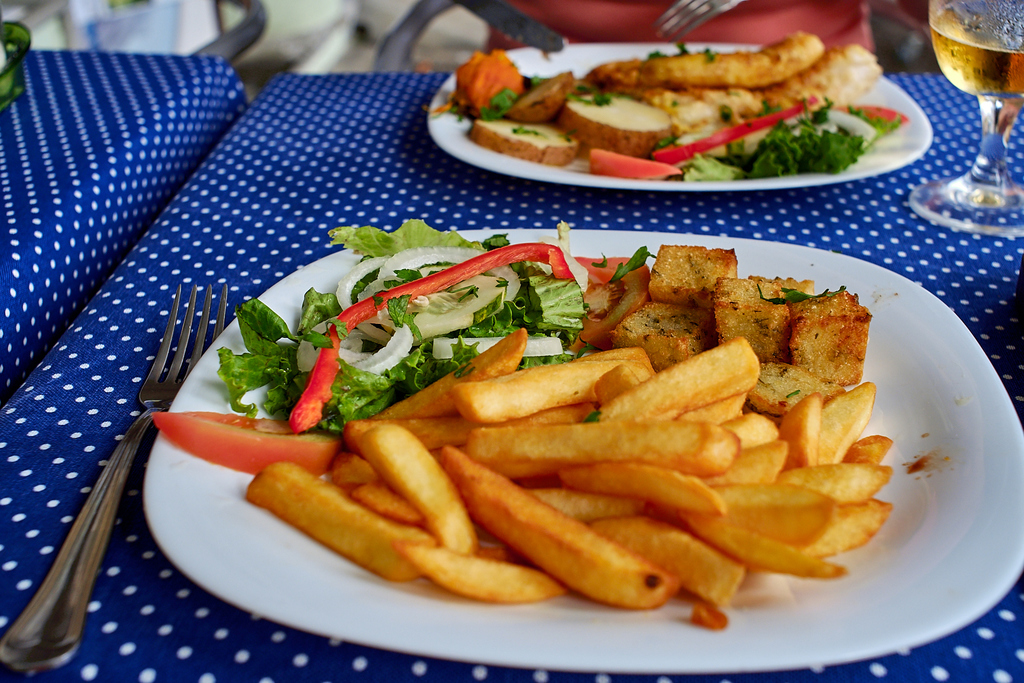French fries: (243, 314, 898, 644)
